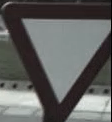Give way: (1, 2, 106, 111)
